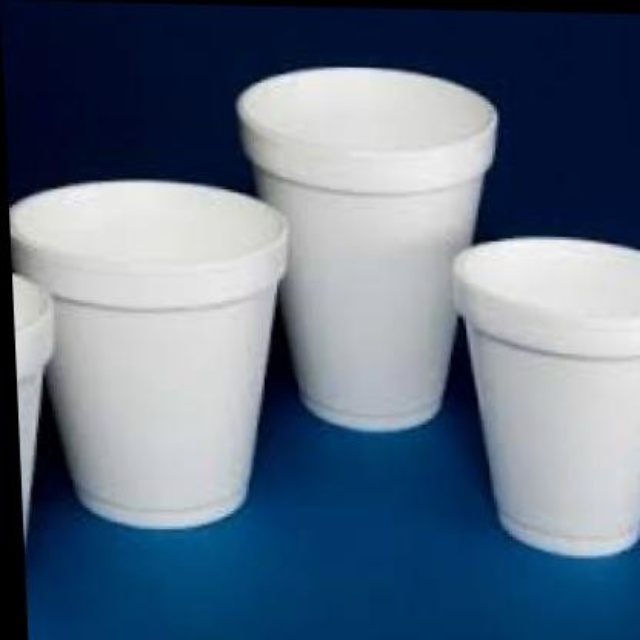trash: (11, 180, 286, 526), (237, 68, 495, 429), (454, 237, 638, 554), (12, 272, 52, 537)
